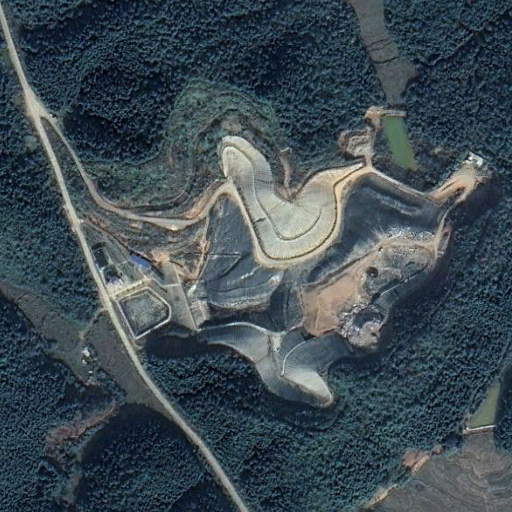lf: (182, 132, 447, 406)
